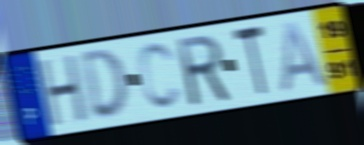A: (279, 19, 333, 95)
C: (135, 40, 186, 113)
D: (78, 47, 131, 123)
H: (37, 52, 90, 131)
R: (173, 31, 234, 109)
T: (230, 22, 269, 101)
